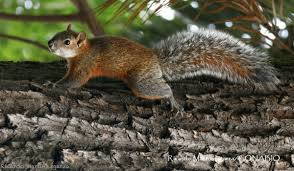Ardilla: (39, 25, 186, 102)
